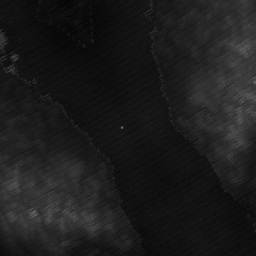Target: (119, 124, 126, 131)
